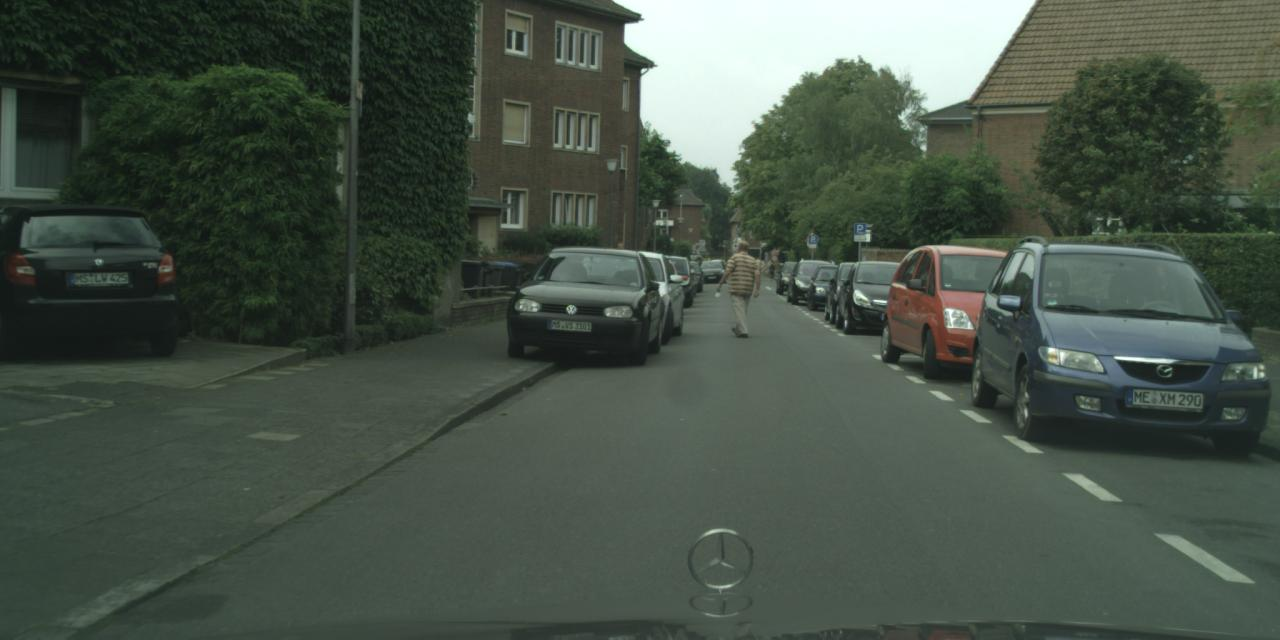ped: (722, 240, 760, 334)
